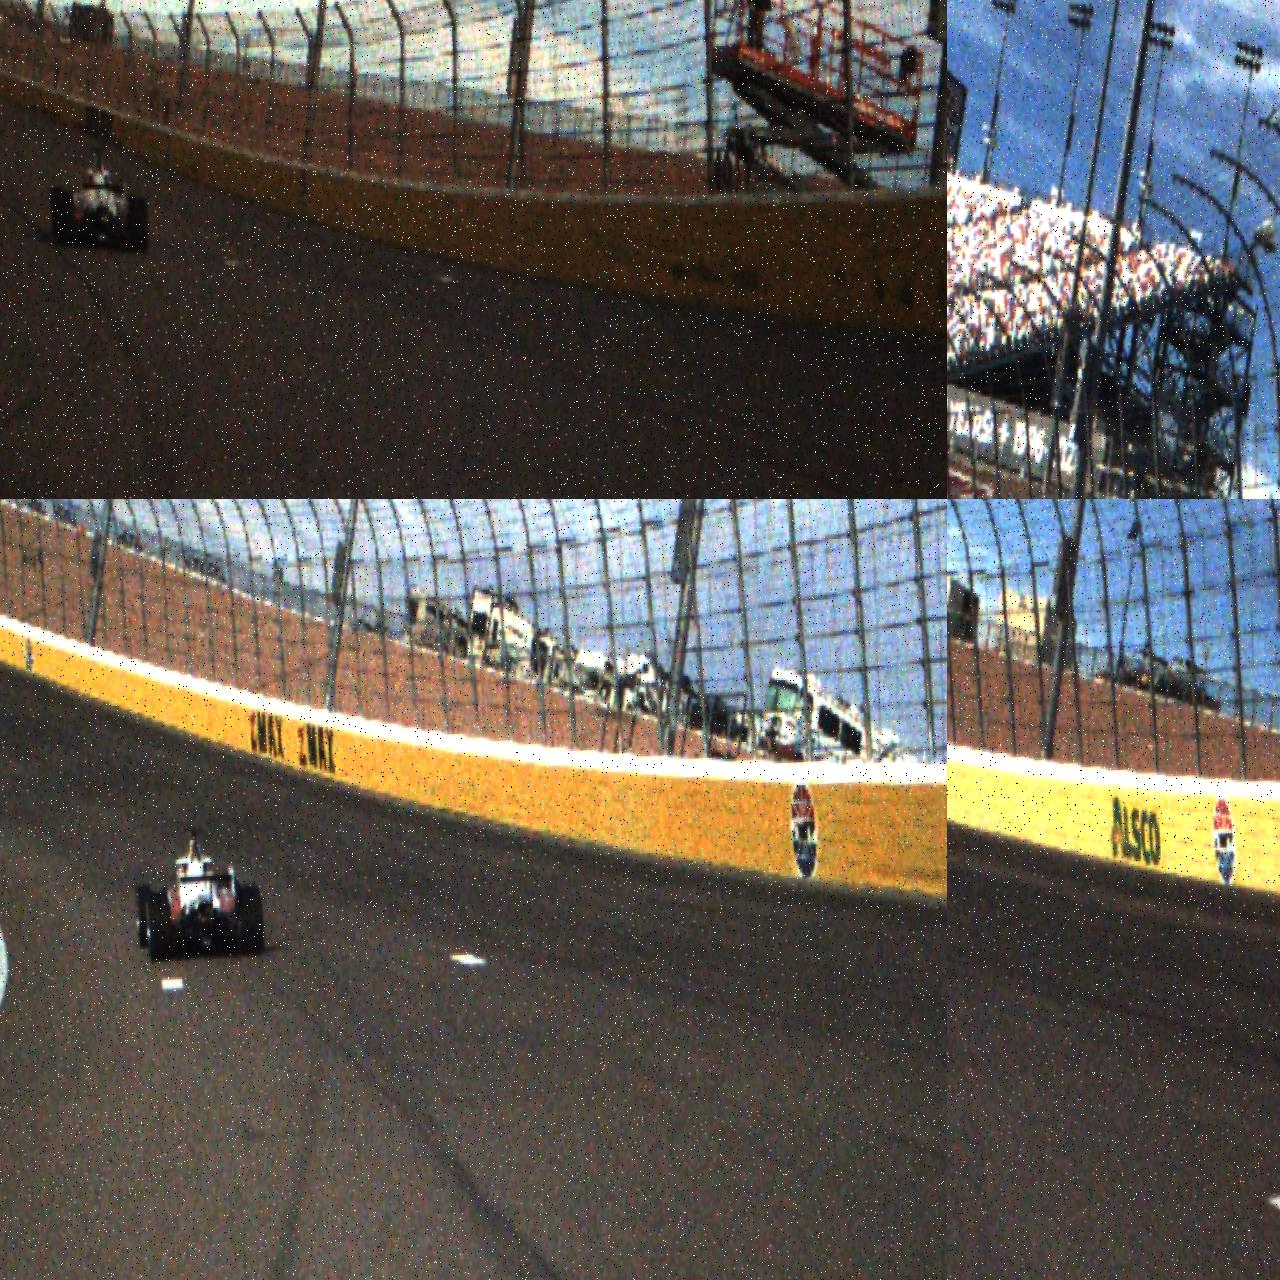AV: (131, 823, 265, 962), (47, 143, 150, 259)
Wheel: (144, 892, 172, 962), (237, 884, 264, 956), (135, 884, 154, 949), (129, 197, 150, 254), (55, 191, 75, 247), (49, 188, 66, 241)
